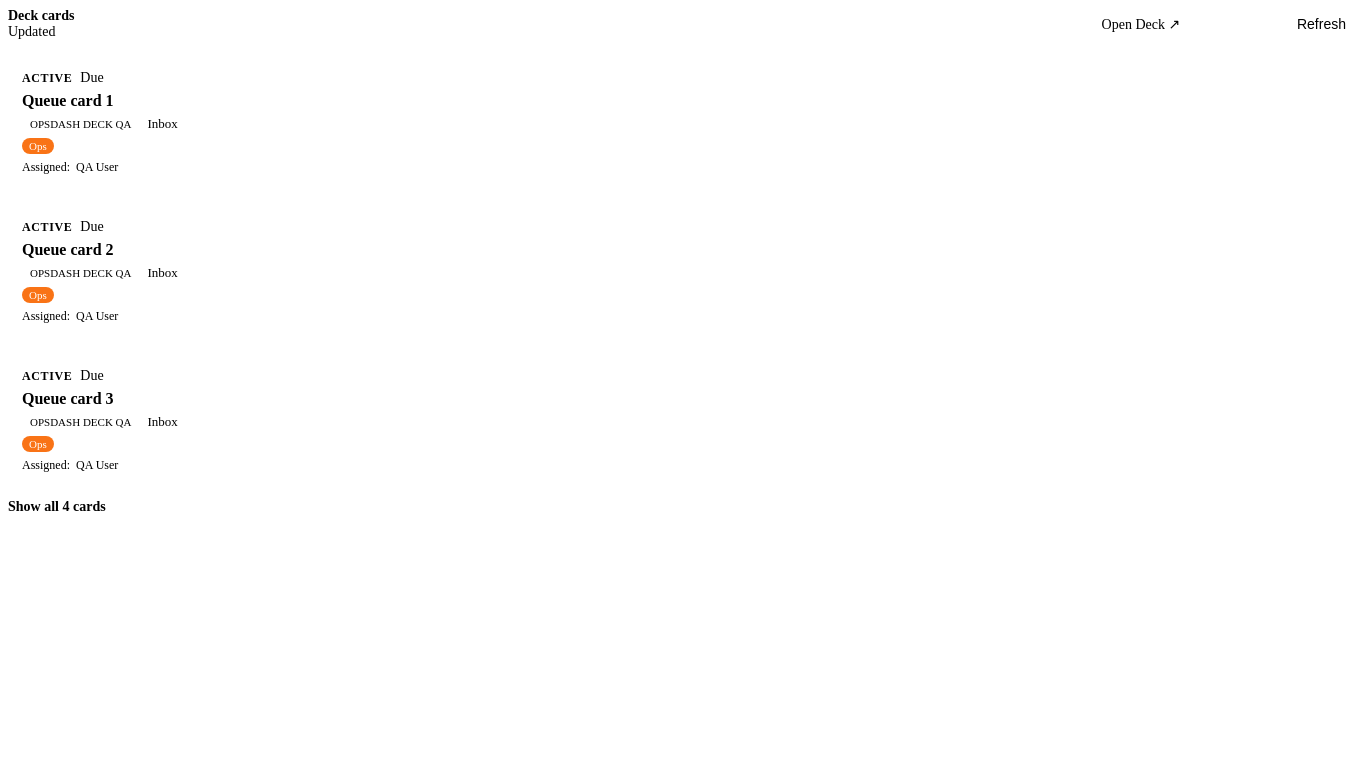
Scenario: DeckCardsPanel › shows a focused subset until the user expands the queue
Expected: the number of list items with class "deck-card" is 3, 22,70 -> 178,174; 22,219 -> 178,323; 22,368 -> 178,472
Click the button with class "deck-panel__show-all": (57, 507) 8,497 -> 106,517
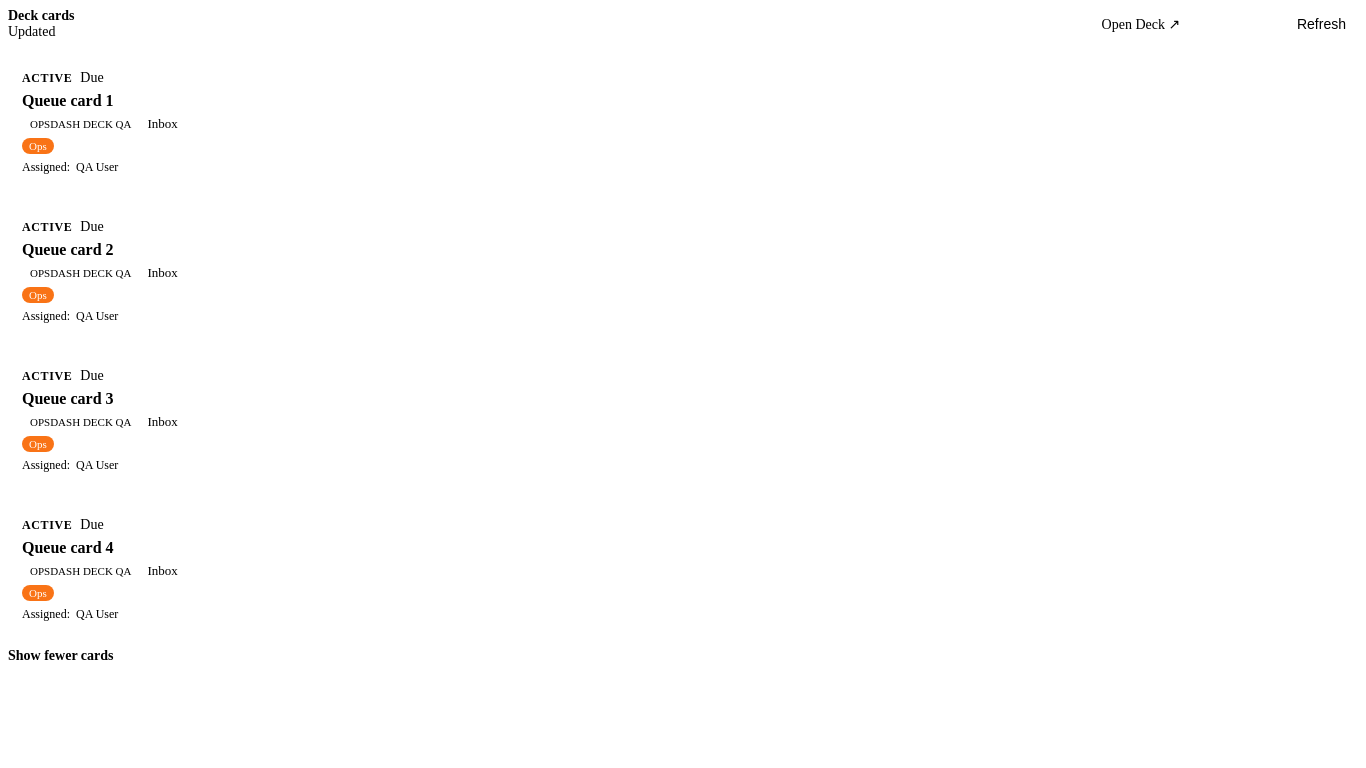
Expected: the number of list items with class "deck-card" is 4, 22,70 -> 178,174; 22,219 -> 178,323; 22,368 -> 178,472; 22,517 -> 178,621
Expected: the button with class "deck-panel__show-all" shows "Show fewer", 8,646 -> 114,666
